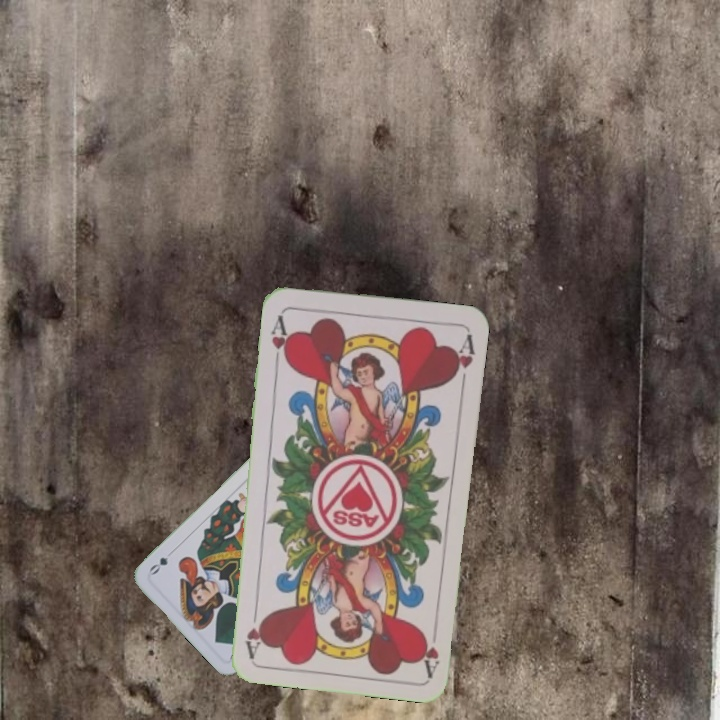HA: (267, 311, 293, 368), (416, 627, 442, 677)
